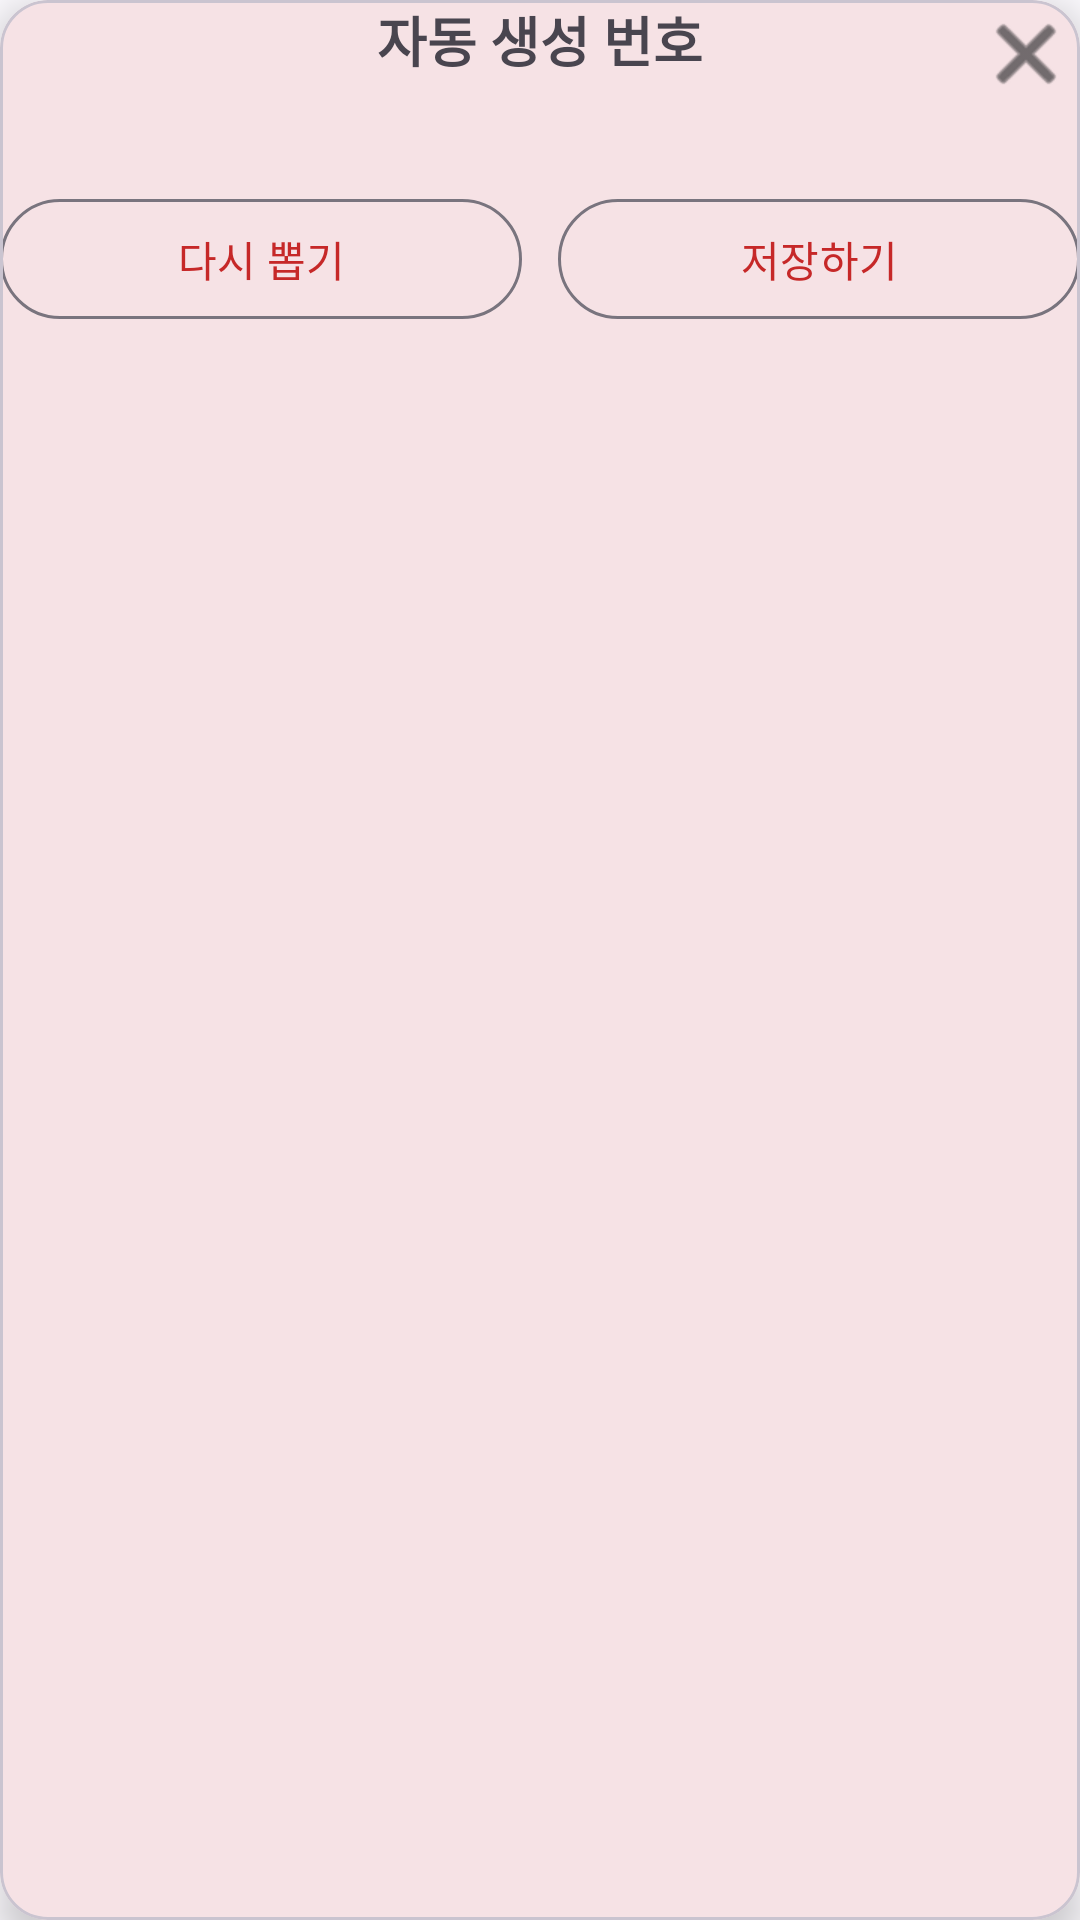

Where icons sit on this 1080px x 1920px app screen, as (x1, y1, x2, y2):
닫기: (996, 24, 1056, 84)
